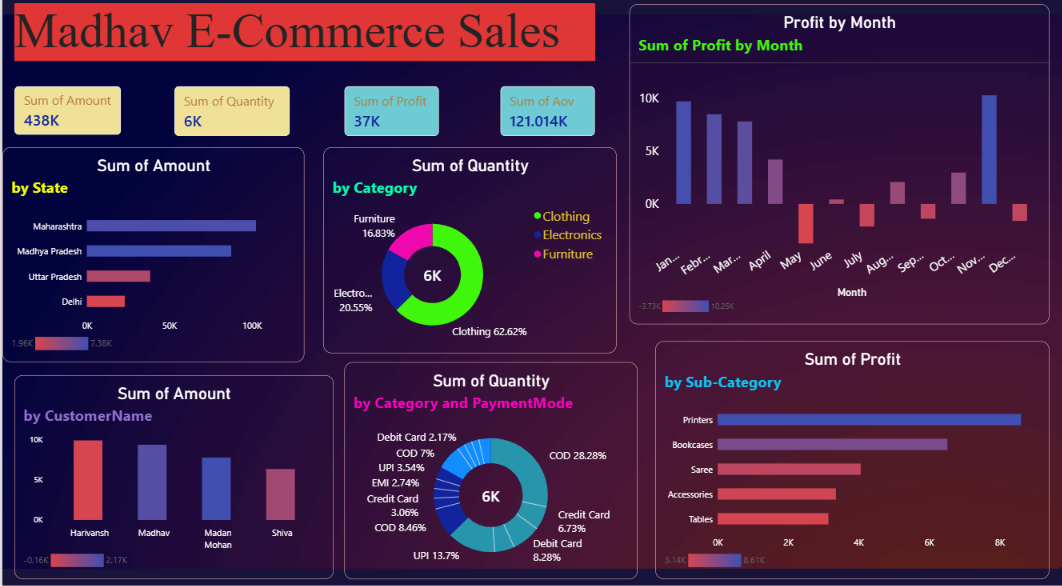

The dashboard page shown, as its layout file describes it:
{"tool":"powerbi","page":{"name":"Page 1","canvas":[1920,1080],"ordinal":0},"visuals":[{"type":"columnChart","title":"Profit by Month","fields":{"Category":["Orders.Order Date.Variation.Date Hierarchy.Month"],"Y":["Sum(Details.Profit)"]},"box":[1134.7,16.3,760.1,579.1],"z":1},{"type":"clusteredBarChart","fields":{"Category":["Details.Sub-Category","Details.PaymentMode"],"Y":["Sum(Details.Profit)"]},"box":[1181.7,626.1,713,430.7],"z":2},{"type":"donutChart","fields":{"Category":["Details.Category"],"Y":["Sum(Details.Quantity)"]},"box":[580.9,275.1,530.2,372.8],"z":3},{"type":"donutChart","fields":{"Category":["Details.Category"],"Series":["Details.PaymentMode"],"Y":["Sum(Details.Quantity)"]},"box":[618.9,664.1,530.2,392.7],"z":4},{"type":"clusteredBarChart","fields":{"Category":["Orders.State"],"Y":["Sum(Details.Amount)"]},"box":[0,275.1,546.5,389.1],"z":9},{"type":"clusteredColumnChart","fields":{"Category":["Orders.CustomerName"],"Y":["Sum(Details.Amount)"]},"box":[21.7,687.7,577.3,369.2],"z":10},{"type":"cardVisual","fields":{"Data":["Sum(Details.Amount)"]},"box":[21.7,164.7,193.6,88.7],"z":11},{"type":"cardVisual","fields":{"Data":["Sum(Details.Quantity)"]},"box":[311.3,164.7,209.9,90.5],"z":12},{"type":"cardVisual","fields":{"Data":["Sum(Details.Profit)"]},"box":[618.9,164.7,171.9,90.5],"z":13},{"type":"cardVisual","fields":{"Data":["Sum(Details.Aov)"]},"box":[901.2,164.7,171.9,90.5],"z":14},{"type":"textbox","box":[21.7,14.5,1051.4,105],"z":15}]}

Visuals, with their boxes in screenshot pixels (x1, y1, x2, y2), scaled from the page's 1920x1080 canvas onto the 1062x586 screenshot:
"Profit by Month" columnChart: detection(628, 9, 1048, 323)
clusteredBarChart - Details.Sub-Category x Details.PaymentMode: detection(654, 340, 1048, 573)
donutChart - Details.Category x Sum(Details.Quantity): detection(321, 149, 615, 352)
donutChart - Details.Category x Details.PaymentMode: detection(342, 360, 636, 573)
clusteredBarChart - Orders.State x Sum(Details.Amount): detection(0, 149, 302, 360)
clusteredColumnChart - Orders.CustomerName x Sum(Details.Amount): detection(12, 373, 331, 573)
cardVisual - Sum(Details.Amount): detection(12, 89, 119, 137)
cardVisual - Sum(Details.Quantity): detection(172, 89, 288, 138)
cardVisual - Sum(Details.Profit): detection(342, 89, 437, 138)
cardVisual - Sum(Details.Aov): detection(498, 89, 594, 138)
textbox: detection(12, 8, 594, 65)
